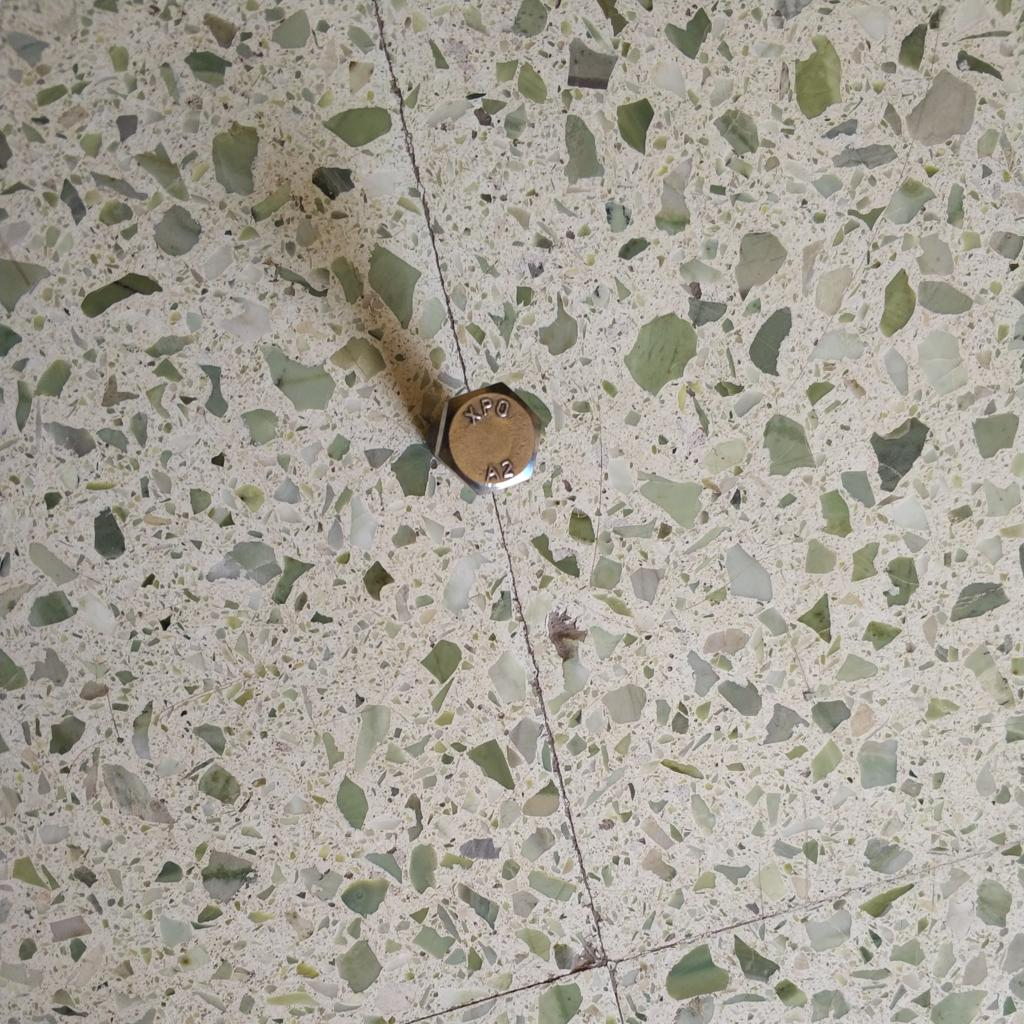screwtype2silver: (425, 376, 546, 495)
